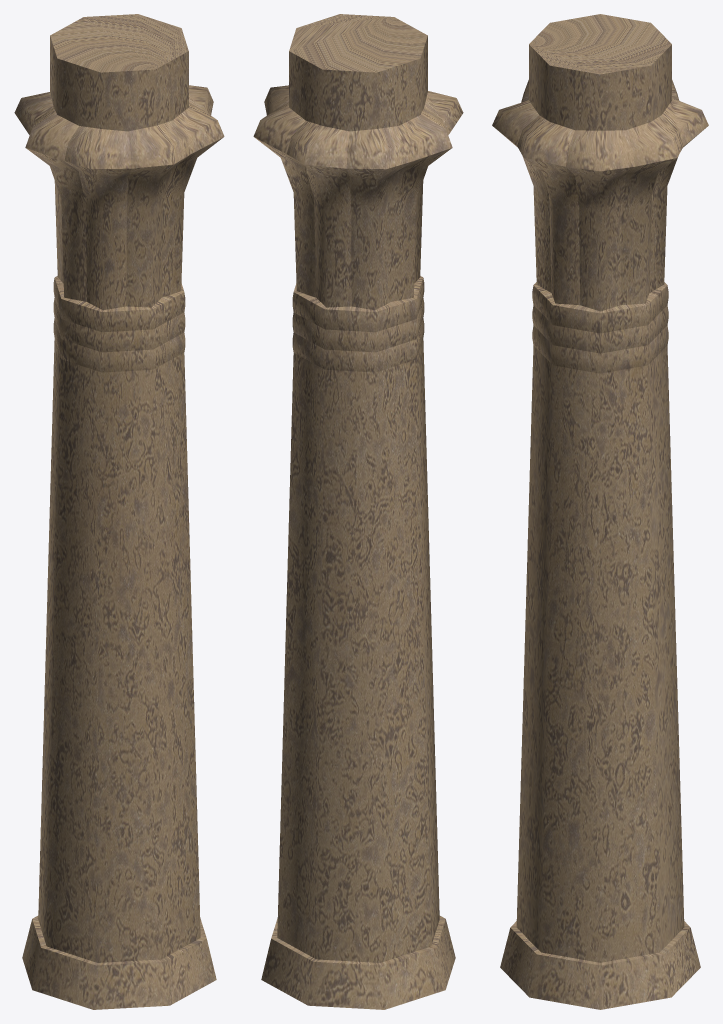
The model's file is Column.FBX.
3 renders of one model, left to right at view 1: azimuth 30°, elevation 25°; view 2: azimuth 150°, elevation 25°; view 3: azimuth 270°, elevation 25°, orthographic.
Visible parts, largest first — view 1: Column_Palm; view 2: Column_Palm; view 3: Column_Palm.
Boxes of the visible parts, bbox=[...] form: Column_Palm: bbox=[14, 14, 224, 1009]; Column_Palm: bbox=[253, 14, 463, 1009]; Column_Palm: bbox=[492, 14, 708, 1009].
Bounding box in the file's own units: 38.57 × 181 × 38.57.
